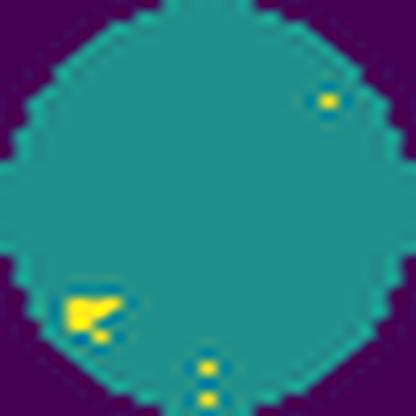Loc: (68, 293, 124, 345)
